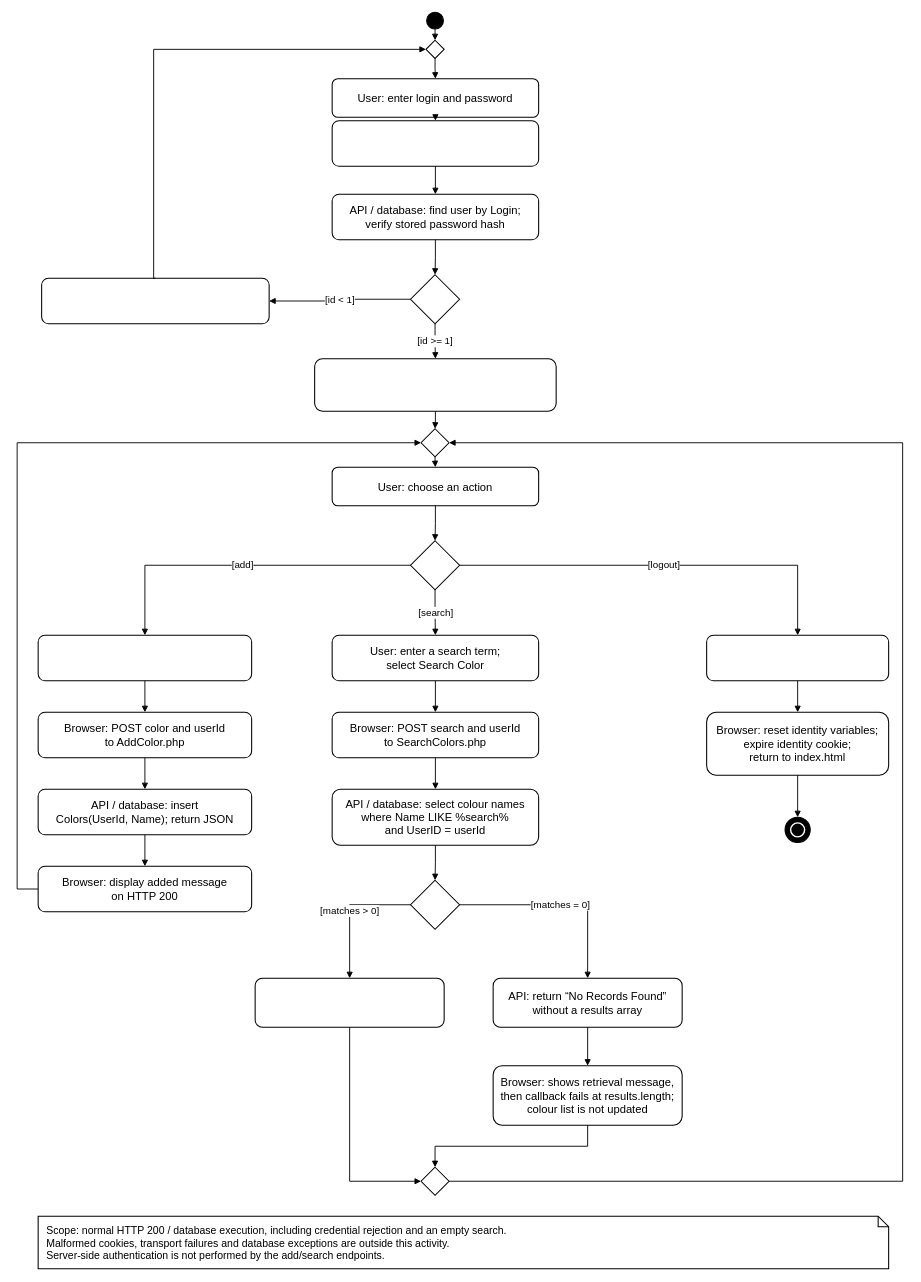
This 921x1282 diagram has some shape labels left out. Each missing label, with the centre of its shape:
API: return results array Browser: display matching names: the point at 349,1002
Browser: display incorrect-credentials message; remain on login page: the point at 155,300
Browser: POST login and password to Login.php: the point at 435,143
Browser: save identity cookie (20 minutes); open color.html and read cookie: the point at 435,384
User: enter a colour; select Add Color: the point at 144,657
User: select Log Out: the point at 797,657
